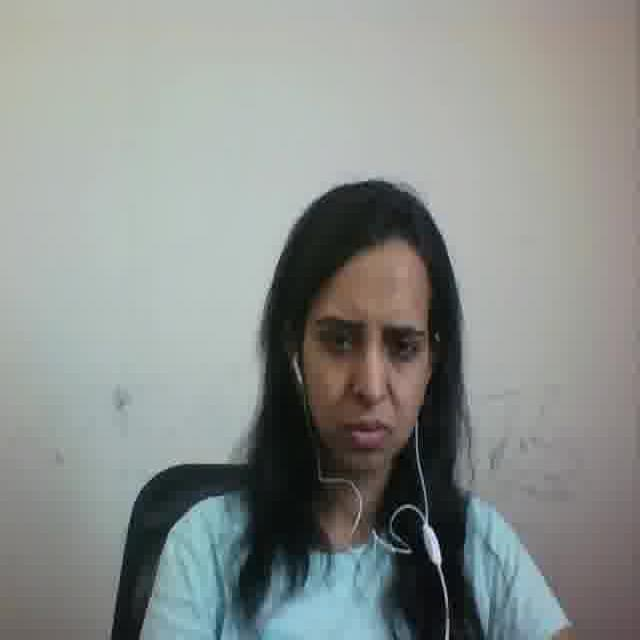Frustration: (298, 252, 423, 480)
